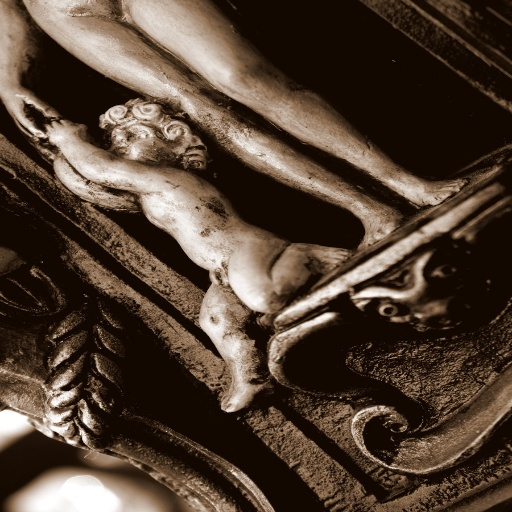hand: (5, 83, 64, 144), (46, 118, 88, 141), (35, 136, 62, 161)
